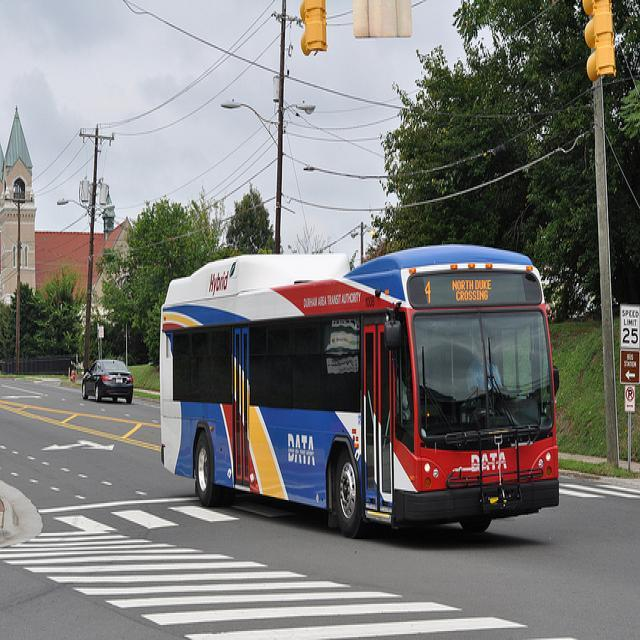fire_hydrant: (70, 369, 75, 381)
